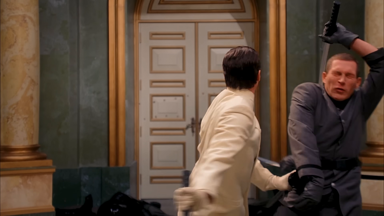bladed_weapon: (313, 1, 344, 86), (175, 168, 192, 214)
